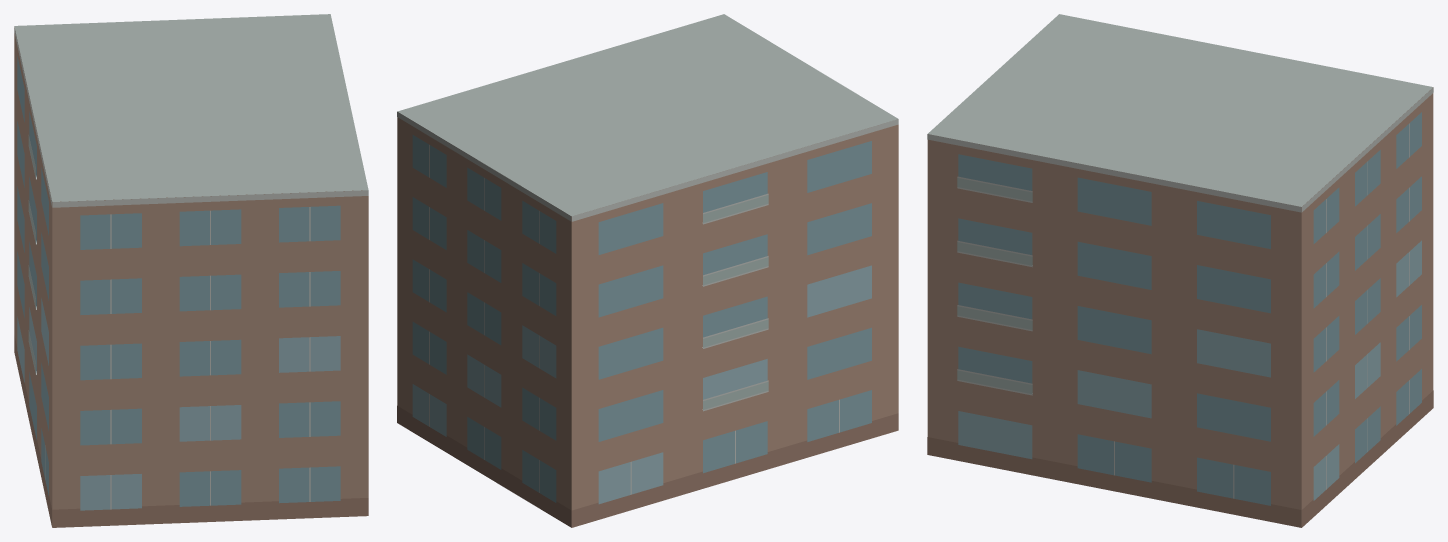
File: survey-upis-32636869.glb
3 renders of one model, left to right at view 1: azimuth 30°, elevation 25°; view 2: azimuth 150°, elevation 25°; view 3: azimuth 270°, elevation 25°, orthographic. The views are drawn at different scales.
Visible parts, largest first — view 1: survey-upis-32636869.tmp; view 2: survey-upis-32636869.tmp; view 3: survey-upis-32636869.tmp.
Boxes of the visible parts, x1,y1,x2,y2 form: survey-upis-32636869.tmp: (14, 14, 368, 527); survey-upis-32636869.tmp: (397, 14, 898, 527); survey-upis-32636869.tmp: (927, 14, 1433, 527).
Size of the model in its own units: 17.93 by 13.9 by 19.87.
